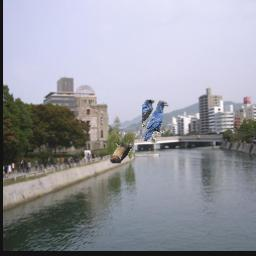Crow: (141, 101, 168, 142)
Swallow: (109, 143, 132, 164)
